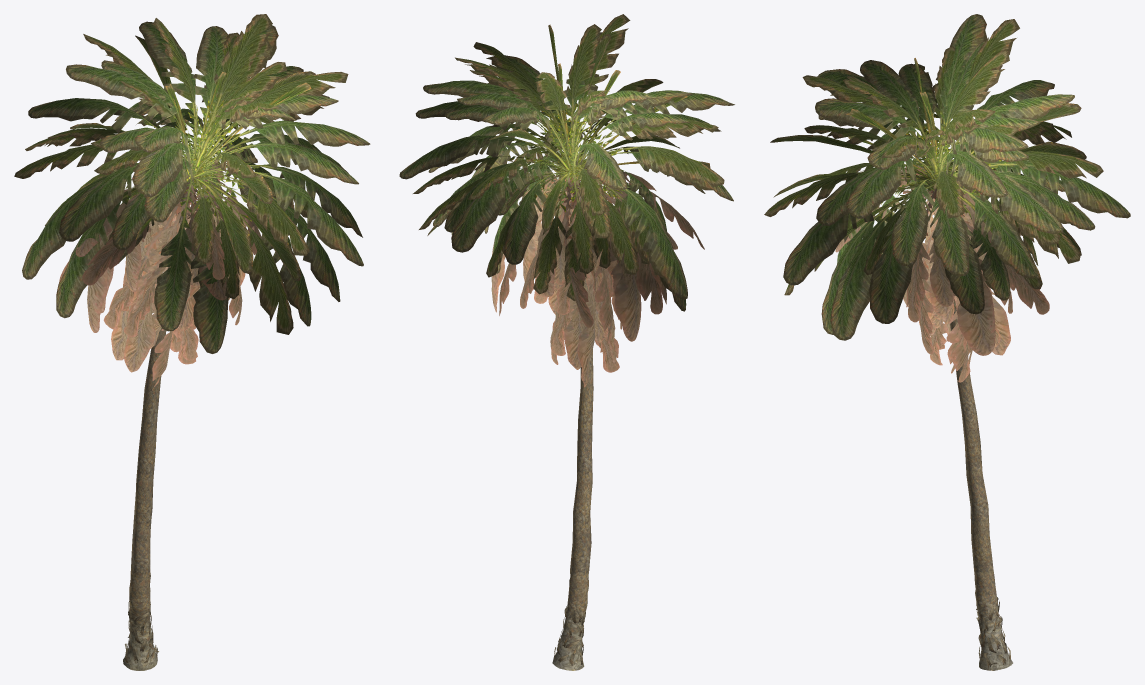
The model's file is palm_medium.glb.
3 renders of one model, left to right at view 1: azimuth 30°, elevation 25°; view 2: azimuth 150°, elevation 25°; view 3: azimuth 270°, elevation 25°, orthographic. The views are drawn at different scales.
Visible parts, largest first — view 1: Palm Tree_M_01_L, Palm Tree_M_01_T; view 2: Palm Tree_M_01_L, Palm Tree_M_01_T; view 3: Palm Tree_M_01_L, Palm Tree_M_01_T.
Part boxes in pixels (x1,y1,x2,y2): Palm Tree_M_01_L: (14, 14, 370, 390); Palm Tree_M_01_T: (123, 176, 191, 670); Palm Tree_M_01_L: (399, 14, 734, 387); Palm Tree_M_01_T: (552, 178, 593, 670); Palm Tree_M_01_L: (764, 14, 1130, 382); Palm Tree_M_01_T: (950, 299, 1012, 670).
Size of the model in its own units: 7.95 by 15.29 by 8.11.
4 materials, 4 textured.
